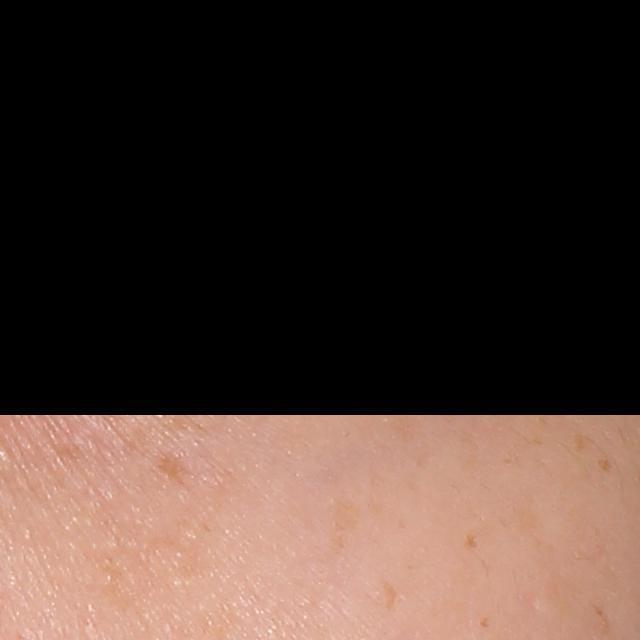melasma: (326, 491, 364, 562), (153, 447, 192, 486), (383, 579, 401, 615), (459, 530, 480, 550), (570, 429, 586, 454), (475, 612, 495, 630), (596, 457, 616, 474)
